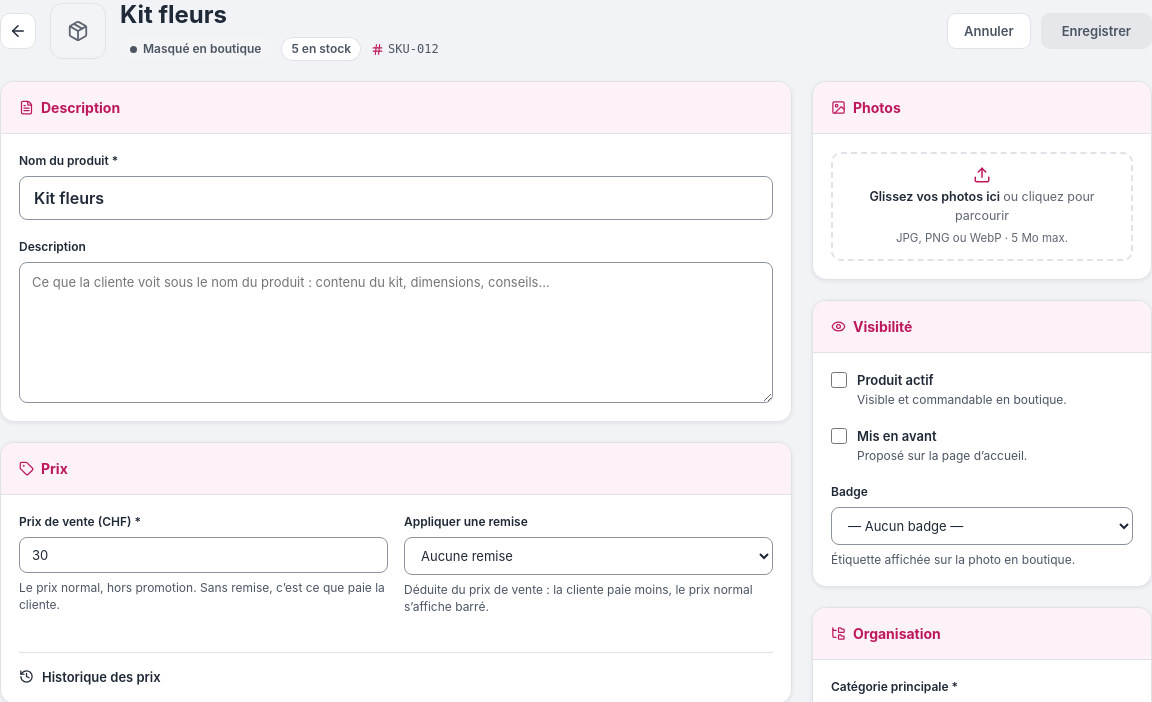
Test: ProductForm — quitter la fiche › sans enregistrement, quitter une fiche modifiée demande toujours confirmation
Type " bis" into the field labelled "Nom du produit *" at (396, 198), box [19,176,773,220]
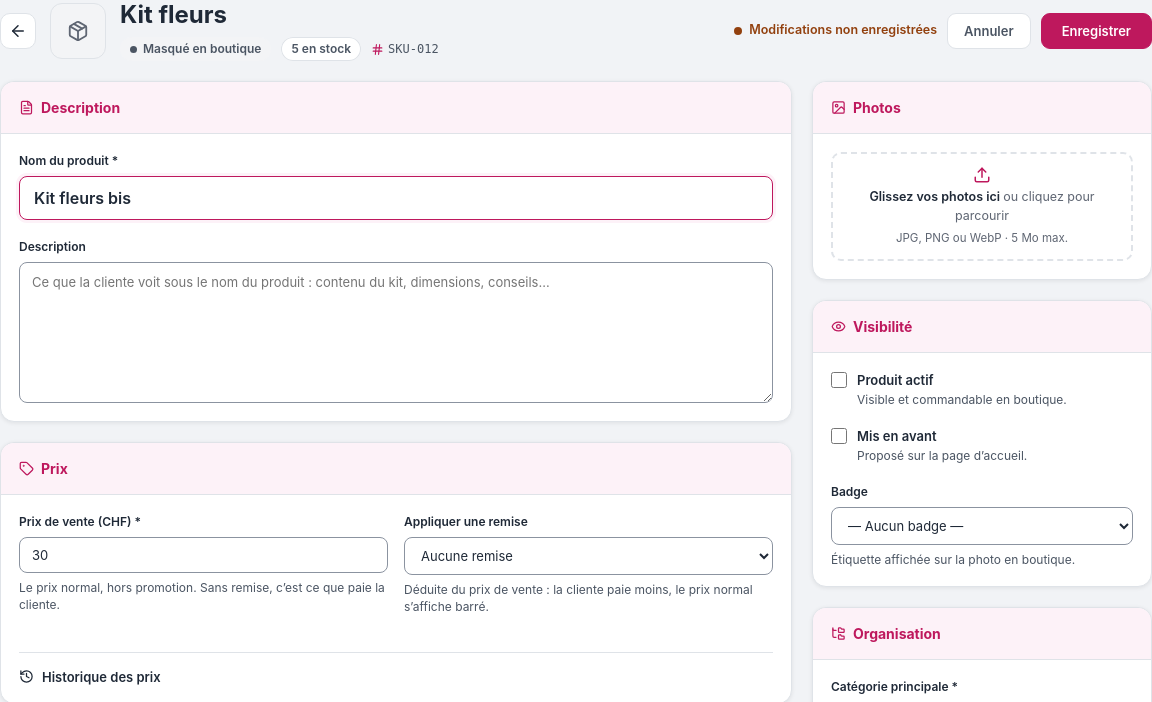
Click the button "Annuler" at (989, 30), box [947,12,1031,48]
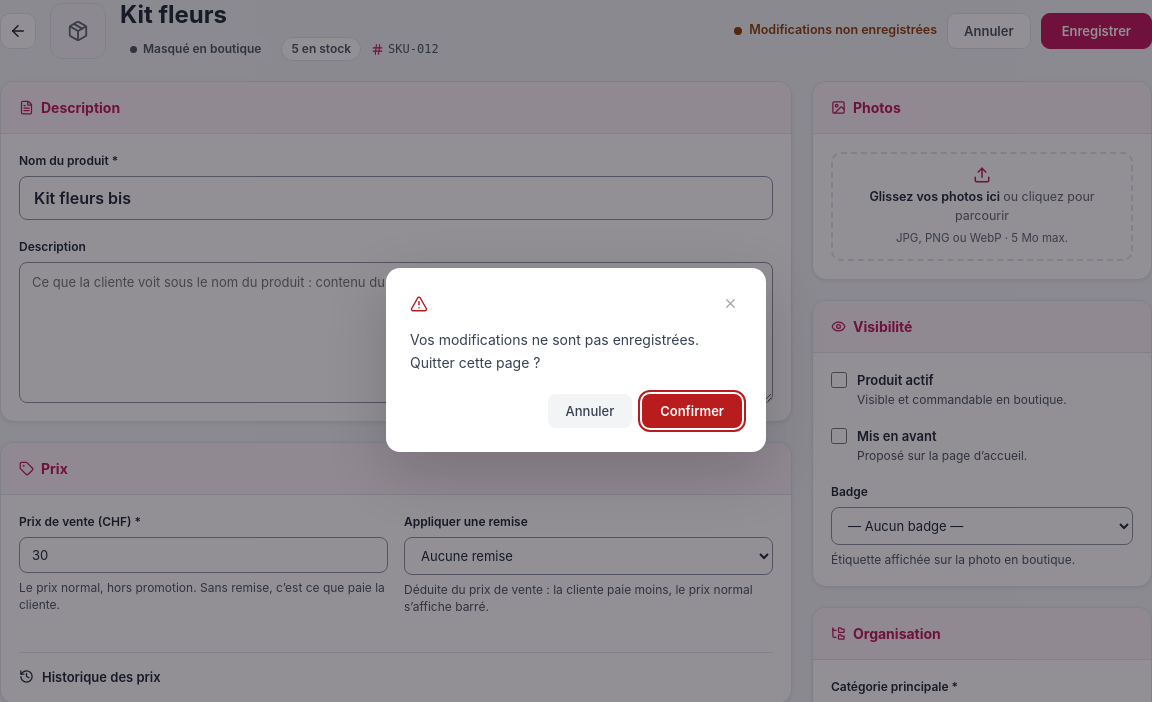
Result: the text "Vos modifications ne sont pas enregistrées" is shown at [410,331,699,370]
